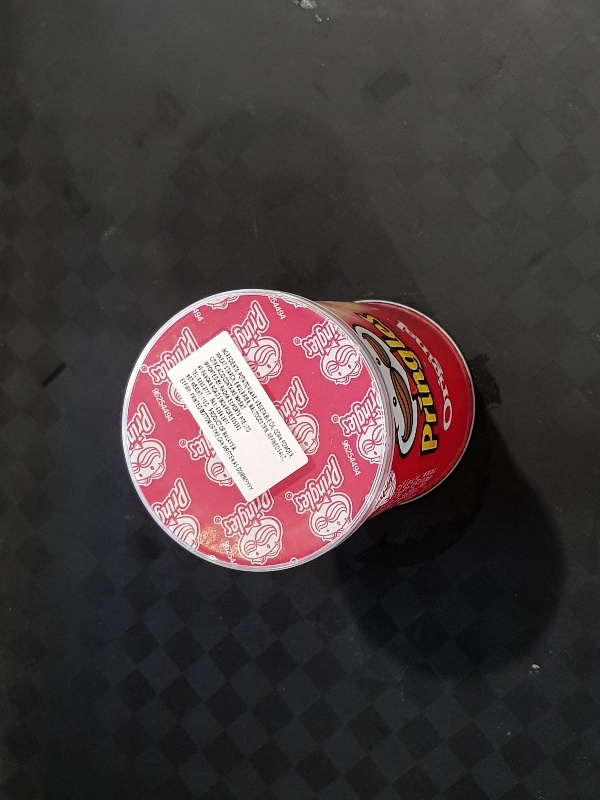Pringles Original: (117, 286, 476, 572)
